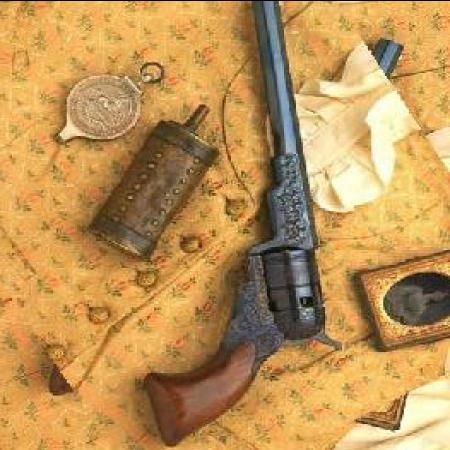Pistol: (146, 1, 346, 447)
